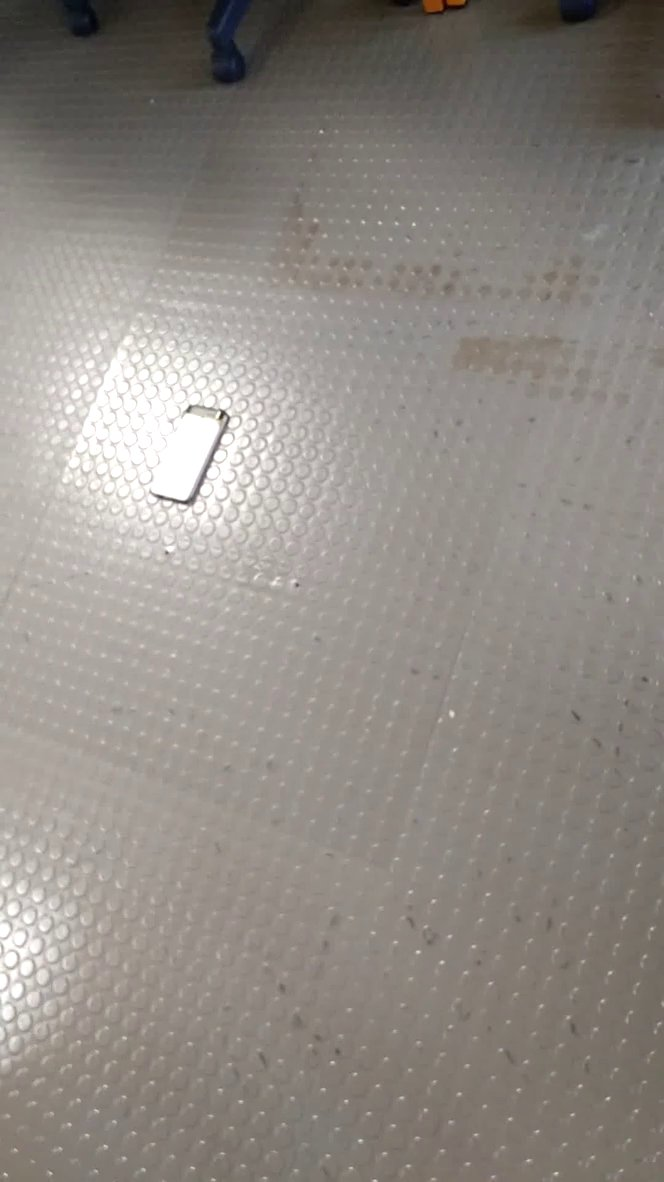phone: (144, 387, 249, 526)
